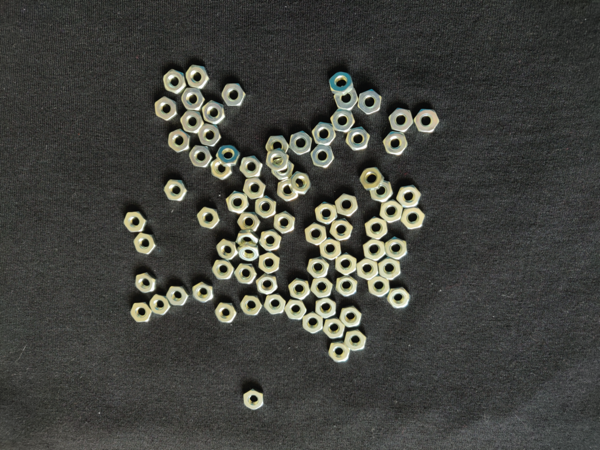nut: (388, 108, 414, 133), (413, 109, 440, 133), (185, 64, 210, 89), (358, 89, 382, 115), (345, 127, 371, 151), (311, 122, 337, 146), (163, 70, 187, 95), (202, 100, 226, 125), (384, 131, 408, 156), (401, 206, 426, 230), (330, 109, 356, 132), (359, 167, 385, 190), (155, 97, 179, 121), (289, 131, 313, 155), (397, 185, 421, 209), (181, 87, 206, 110), (311, 144, 334, 169), (222, 83, 246, 106), (180, 111, 204, 134), (168, 129, 191, 153), (330, 72, 354, 95), (370, 180, 394, 203), (380, 199, 403, 223), (226, 190, 249, 214), (366, 216, 389, 240), (199, 124, 222, 147), (190, 145, 213, 168), (266, 148, 289, 171), (335, 194, 358, 217), (315, 202, 338, 225), (364, 239, 387, 262), (239, 156, 263, 178), (289, 171, 311, 195), (385, 237, 407, 261), (387, 287, 411, 309), (334, 89, 359, 110), (123, 212, 148, 233), (133, 233, 158, 254), (217, 145, 240, 167), (272, 158, 295, 180), (277, 179, 299, 202), (243, 178, 266, 200), (330, 219, 353, 241), (305, 223, 327, 246), (320, 238, 342, 261), (379, 257, 401, 280), (336, 253, 358, 276), (259, 229, 282, 251), (238, 242, 261, 264), (234, 263, 257, 285), (307, 257, 330, 279), (284, 299, 307, 321), (340, 306, 363, 328), (164, 180, 188, 201), (211, 158, 233, 180), (274, 212, 296, 234), (357, 258, 379, 280), (256, 273, 278, 295), (289, 278, 311, 300), (336, 275, 358, 297), (345, 330, 367, 352), (266, 136, 289, 157), (255, 195, 276, 218), (368, 276, 391, 297), (259, 252, 280, 275), (311, 277, 334, 298), (166, 286, 190, 306), (198, 208, 220, 229), (135, 273, 157, 294), (130, 302, 152, 323), (193, 282, 214, 304), (215, 302, 237, 323), (264, 294, 286, 315), (315, 298, 337, 319), (323, 318, 345, 339), (328, 342, 350, 363), (240, 296, 263, 316), (237, 213, 261, 232), (243, 389, 264, 410), (217, 240, 239, 260), (303, 312, 323, 334), (235, 230, 259, 248), (150, 295, 171, 315), (213, 260, 235, 279)
